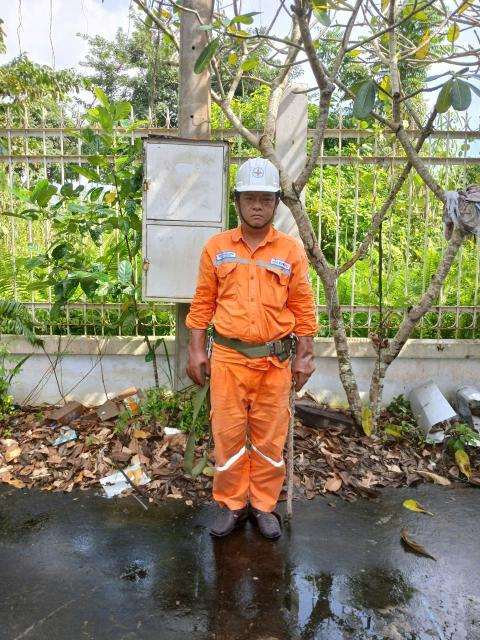gloves: (182, 315, 223, 395), (290, 331, 315, 396)
harness: (216, 323, 307, 372)
helmet: (223, 150, 306, 199)
shoes: (252, 489, 290, 543), (207, 490, 246, 539)
